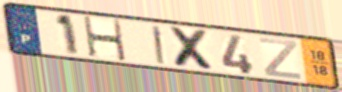1: (55, 14, 82, 57)
4: (220, 32, 257, 77)
H: (80, 15, 129, 63)
I: (150, 24, 167, 66)
X: (166, 24, 220, 73)
Z: (257, 36, 303, 81)
